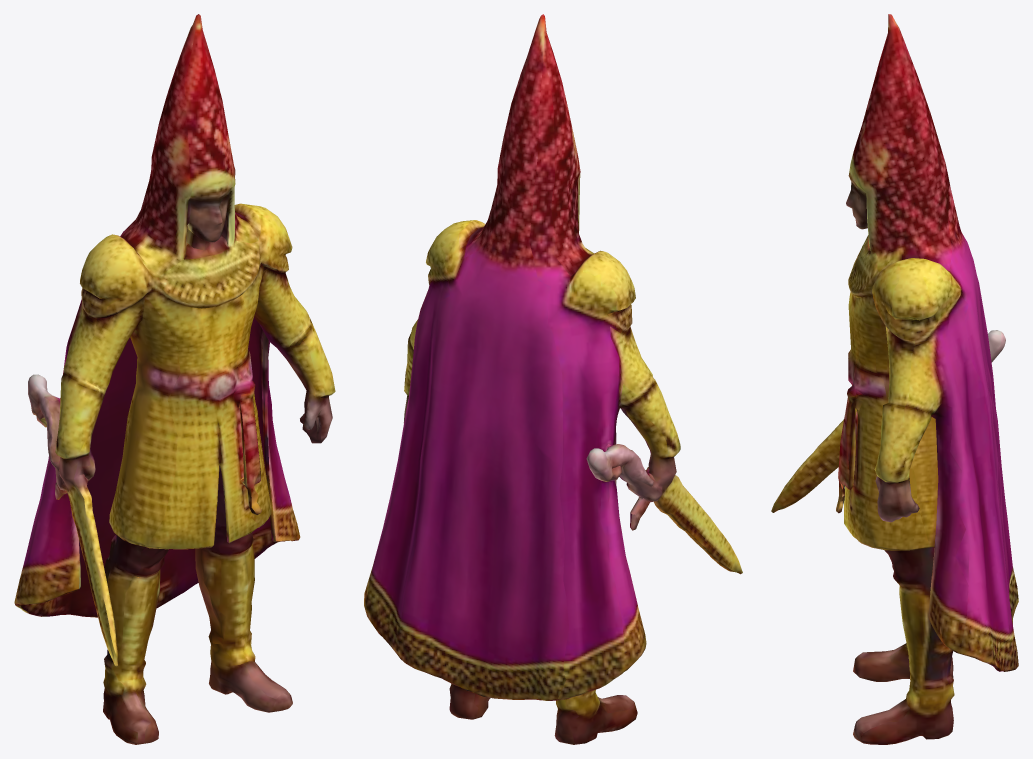
Rendered from golden-king.phone.glb.
3 renders of one model, left to right at view 1: azimuth 30°, elevation 25°; view 2: azimuth 150°, elevation 25°; view 3: azimuth 270°, elevation 25°, orthographic.
Parts seen in each view (by area): view 1: golden-king.hy.raw; view 2: golden-king.hy.raw; view 3: golden-king.hy.raw.
Part boxes in pixels (x1,y1,x2,y2): golden-king.hy.raw: (14, 14, 335, 744); golden-king.hy.raw: (364, 14, 742, 744); golden-king.hy.raw: (771, 14, 1018, 744).
Size of the model in its own units: 0.8762 by 2.1 by 0.6804.
Materials: 1 (1 with a texture image).
